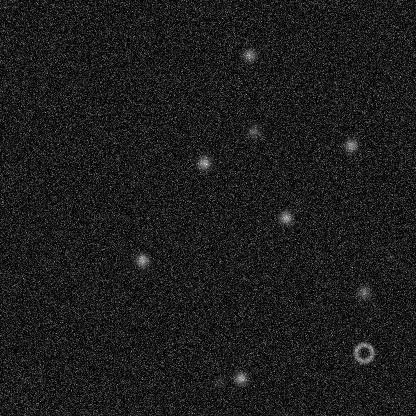Ring: (351, 340, 375, 364)
Spot: (277, 209, 293, 225), (232, 370, 248, 386), (241, 47, 257, 63), (133, 252, 149, 268), (355, 284, 371, 300), (196, 154, 212, 170), (245, 123, 261, 139), (342, 137, 358, 153), (210, 373, 226, 389)
